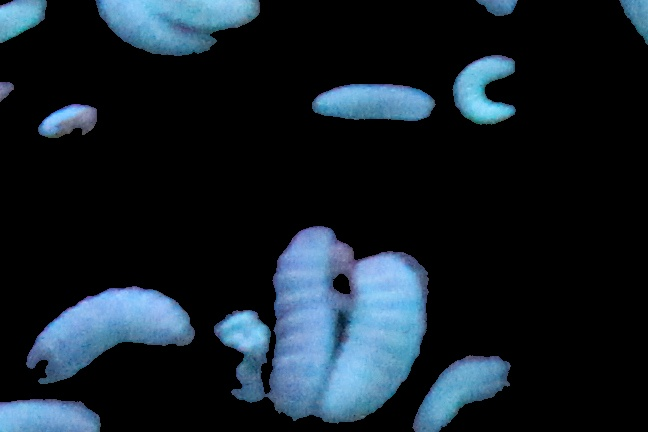larvae: (337, 249, 428, 421), (274, 221, 335, 413), (30, 293, 196, 356), (107, 1, 217, 62), (421, 355, 509, 423), (446, 51, 523, 118), (2, 396, 110, 432), (317, 85, 428, 113), (142, 1, 254, 25), (1, 1, 38, 41)
